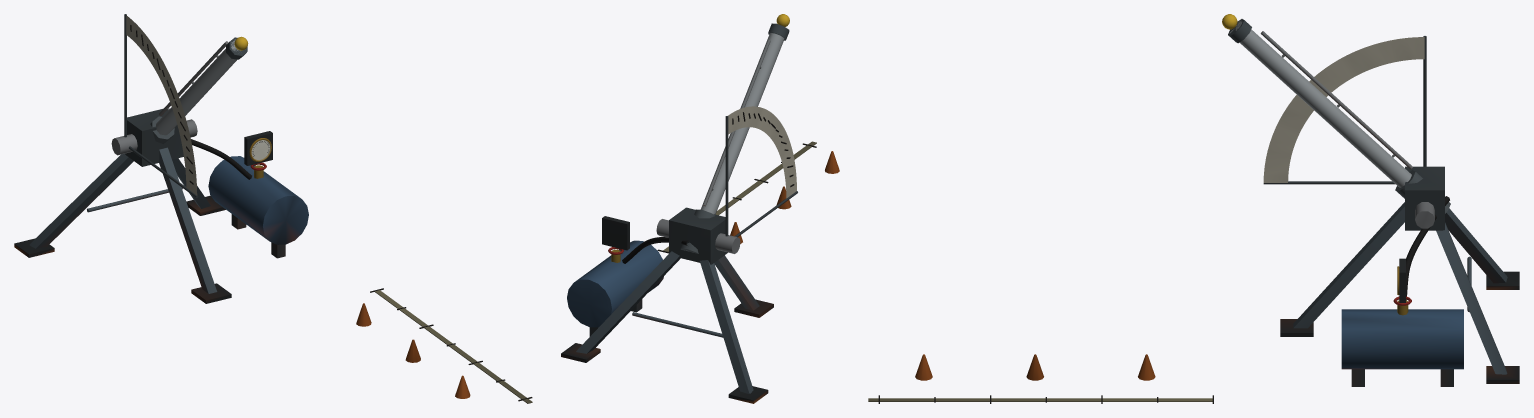
The model's file is launcher-ramp.glb.
3 renders of one model, left to right at view 1: azimuth 30°, elevation 25°; view 2: azimuth 150°, elevation 25°; view 3: azimuth 270°, elevation 25°, orthographic. The views are drawn at different scales.
Visible parts, largest first — view 1: launcher, ramp-arm; view 2: launcher, ramp-arm; view 3: launcher, ramp-arm.
Boxes of the visible parts, x1,y1,x2,y2 form: launcher: (14, 14, 532, 403); ramp-arm: (150, 36, 248, 143); launcher: (561, 106, 839, 403); ramp-arm: (680, 14, 789, 253); launcher: (868, 36, 1519, 403); ramp-arm: (1222, 14, 1450, 213).
Size of the model in its own units: 2.73 by 3.17 by 5.85.
